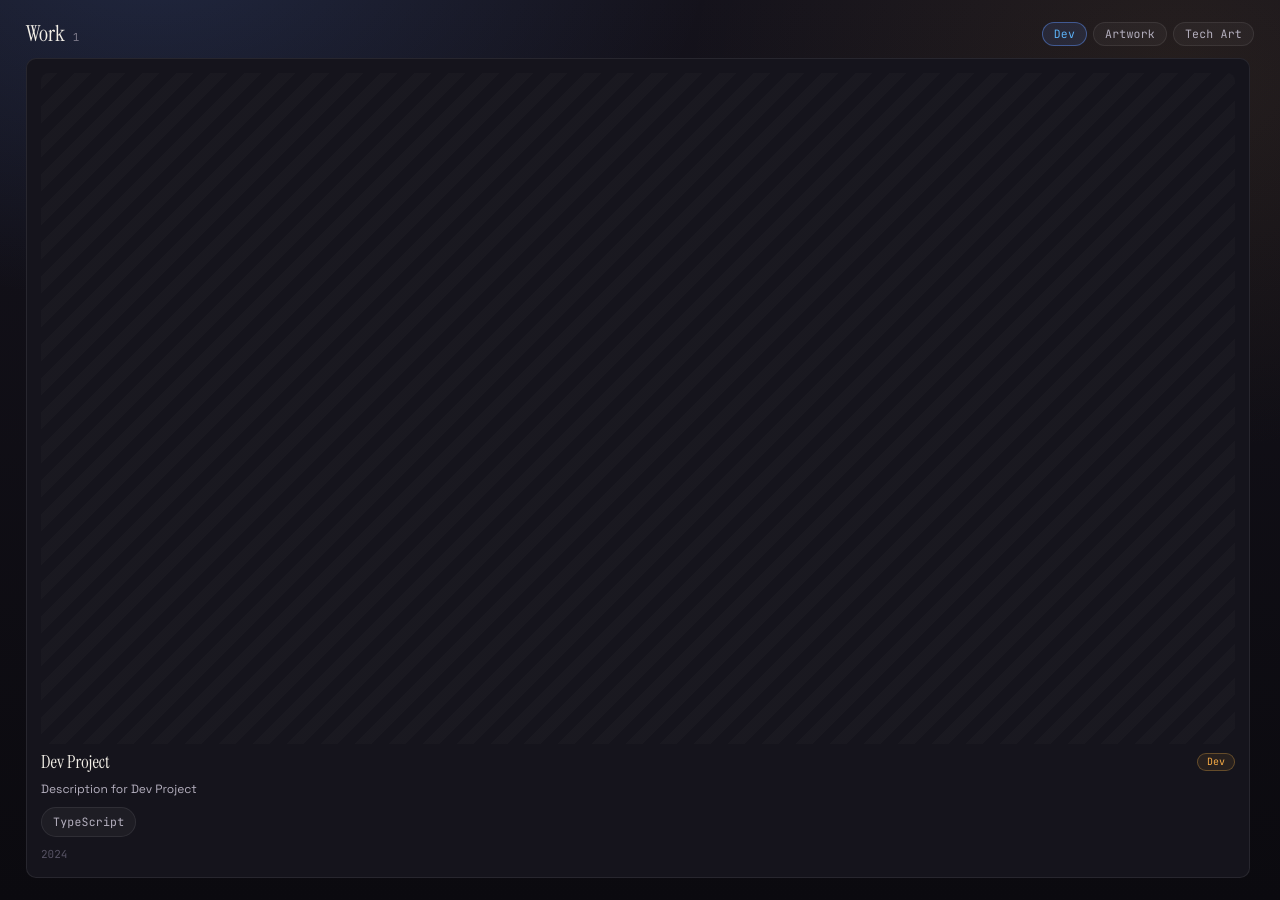
it: DashboardWorkGrid › category filter tabs › filters to only Tech Art projects when the Tech Art tab is selected
Click the button "Tech Art" at (1214, 34), box [1173,22,1254,46]
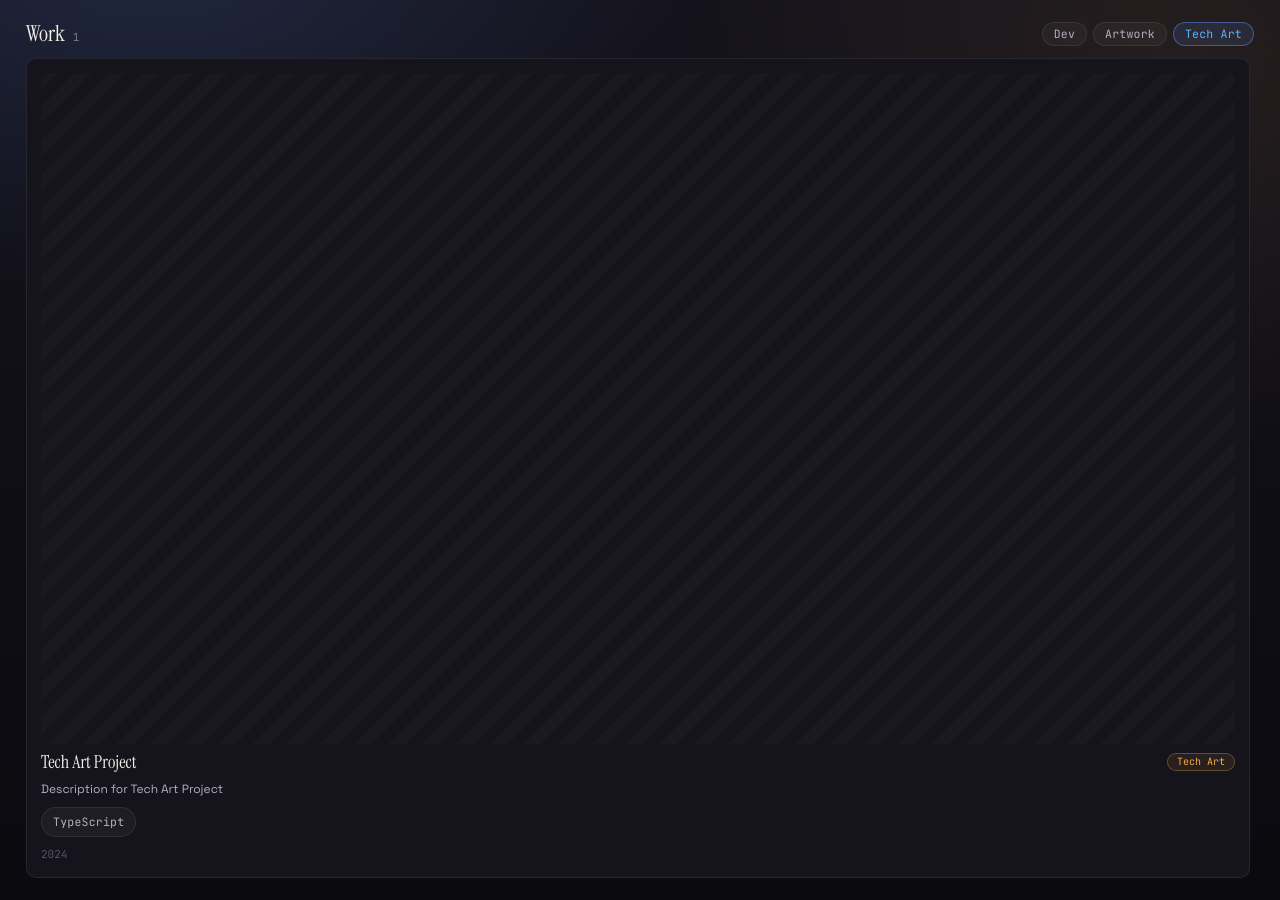
Expected: the heading "Tech Art Project" is shown, [41,753,136,771]
Expected: the heading "Dev Project" is gone
